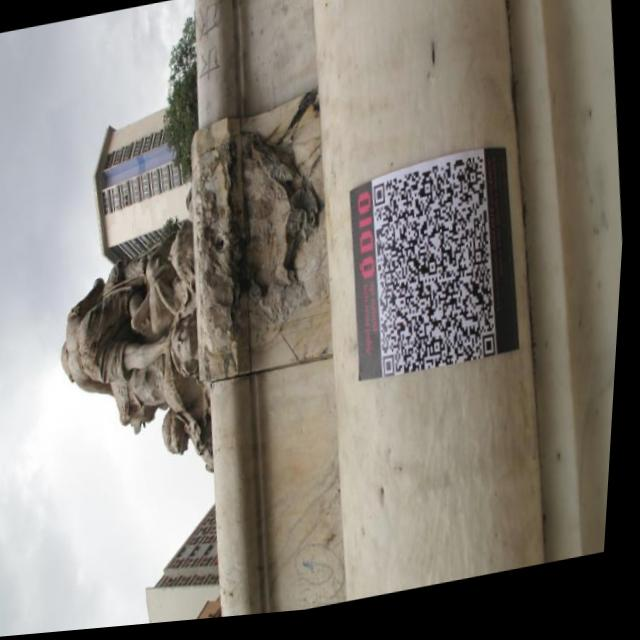qrcode: (366, 162, 509, 387)
